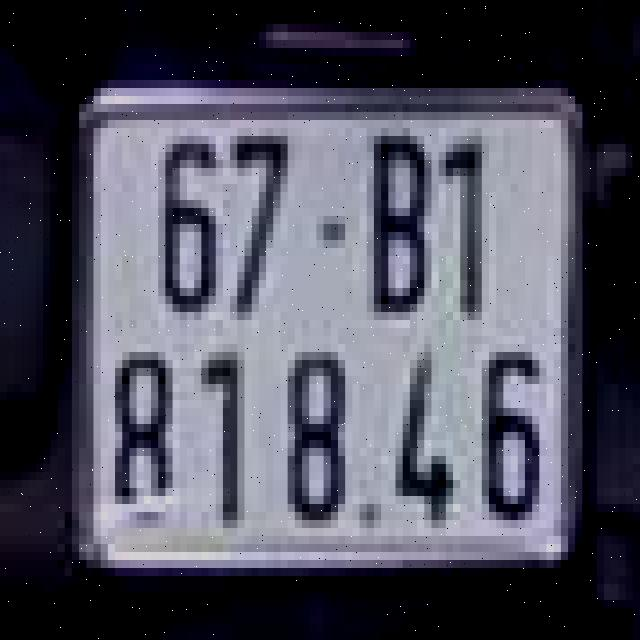1: (435, 128, 493, 328), (198, 336, 255, 536)
4: (392, 336, 464, 528)
6: (467, 340, 554, 540), (148, 128, 226, 320)
7: (223, 132, 295, 324)
8: (277, 340, 356, 532), (112, 340, 176, 540)
B: (363, 128, 435, 328)
